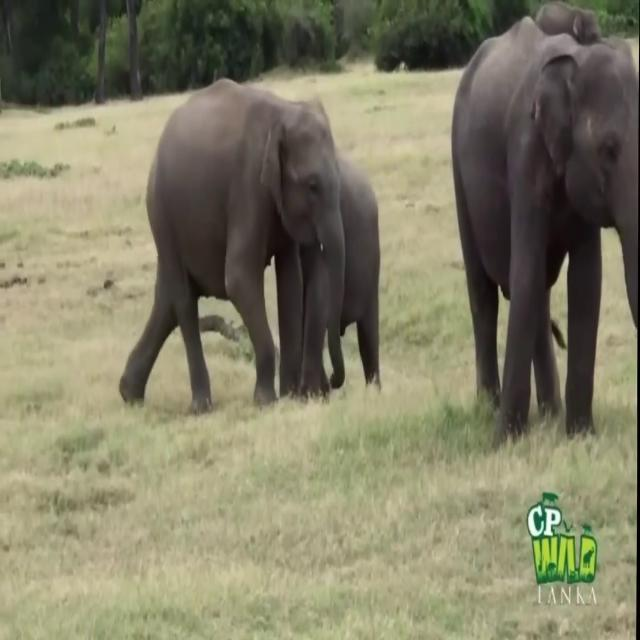Elephant: (451, 2, 639, 450), (118, 76, 346, 415)
